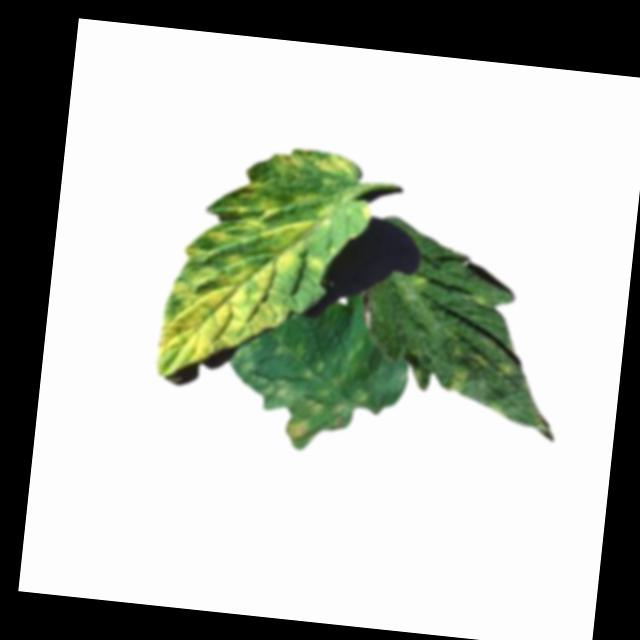Leaf_Mold: (151, 135, 376, 393), (254, 376, 355, 446), (484, 354, 523, 381), (445, 366, 472, 399)
